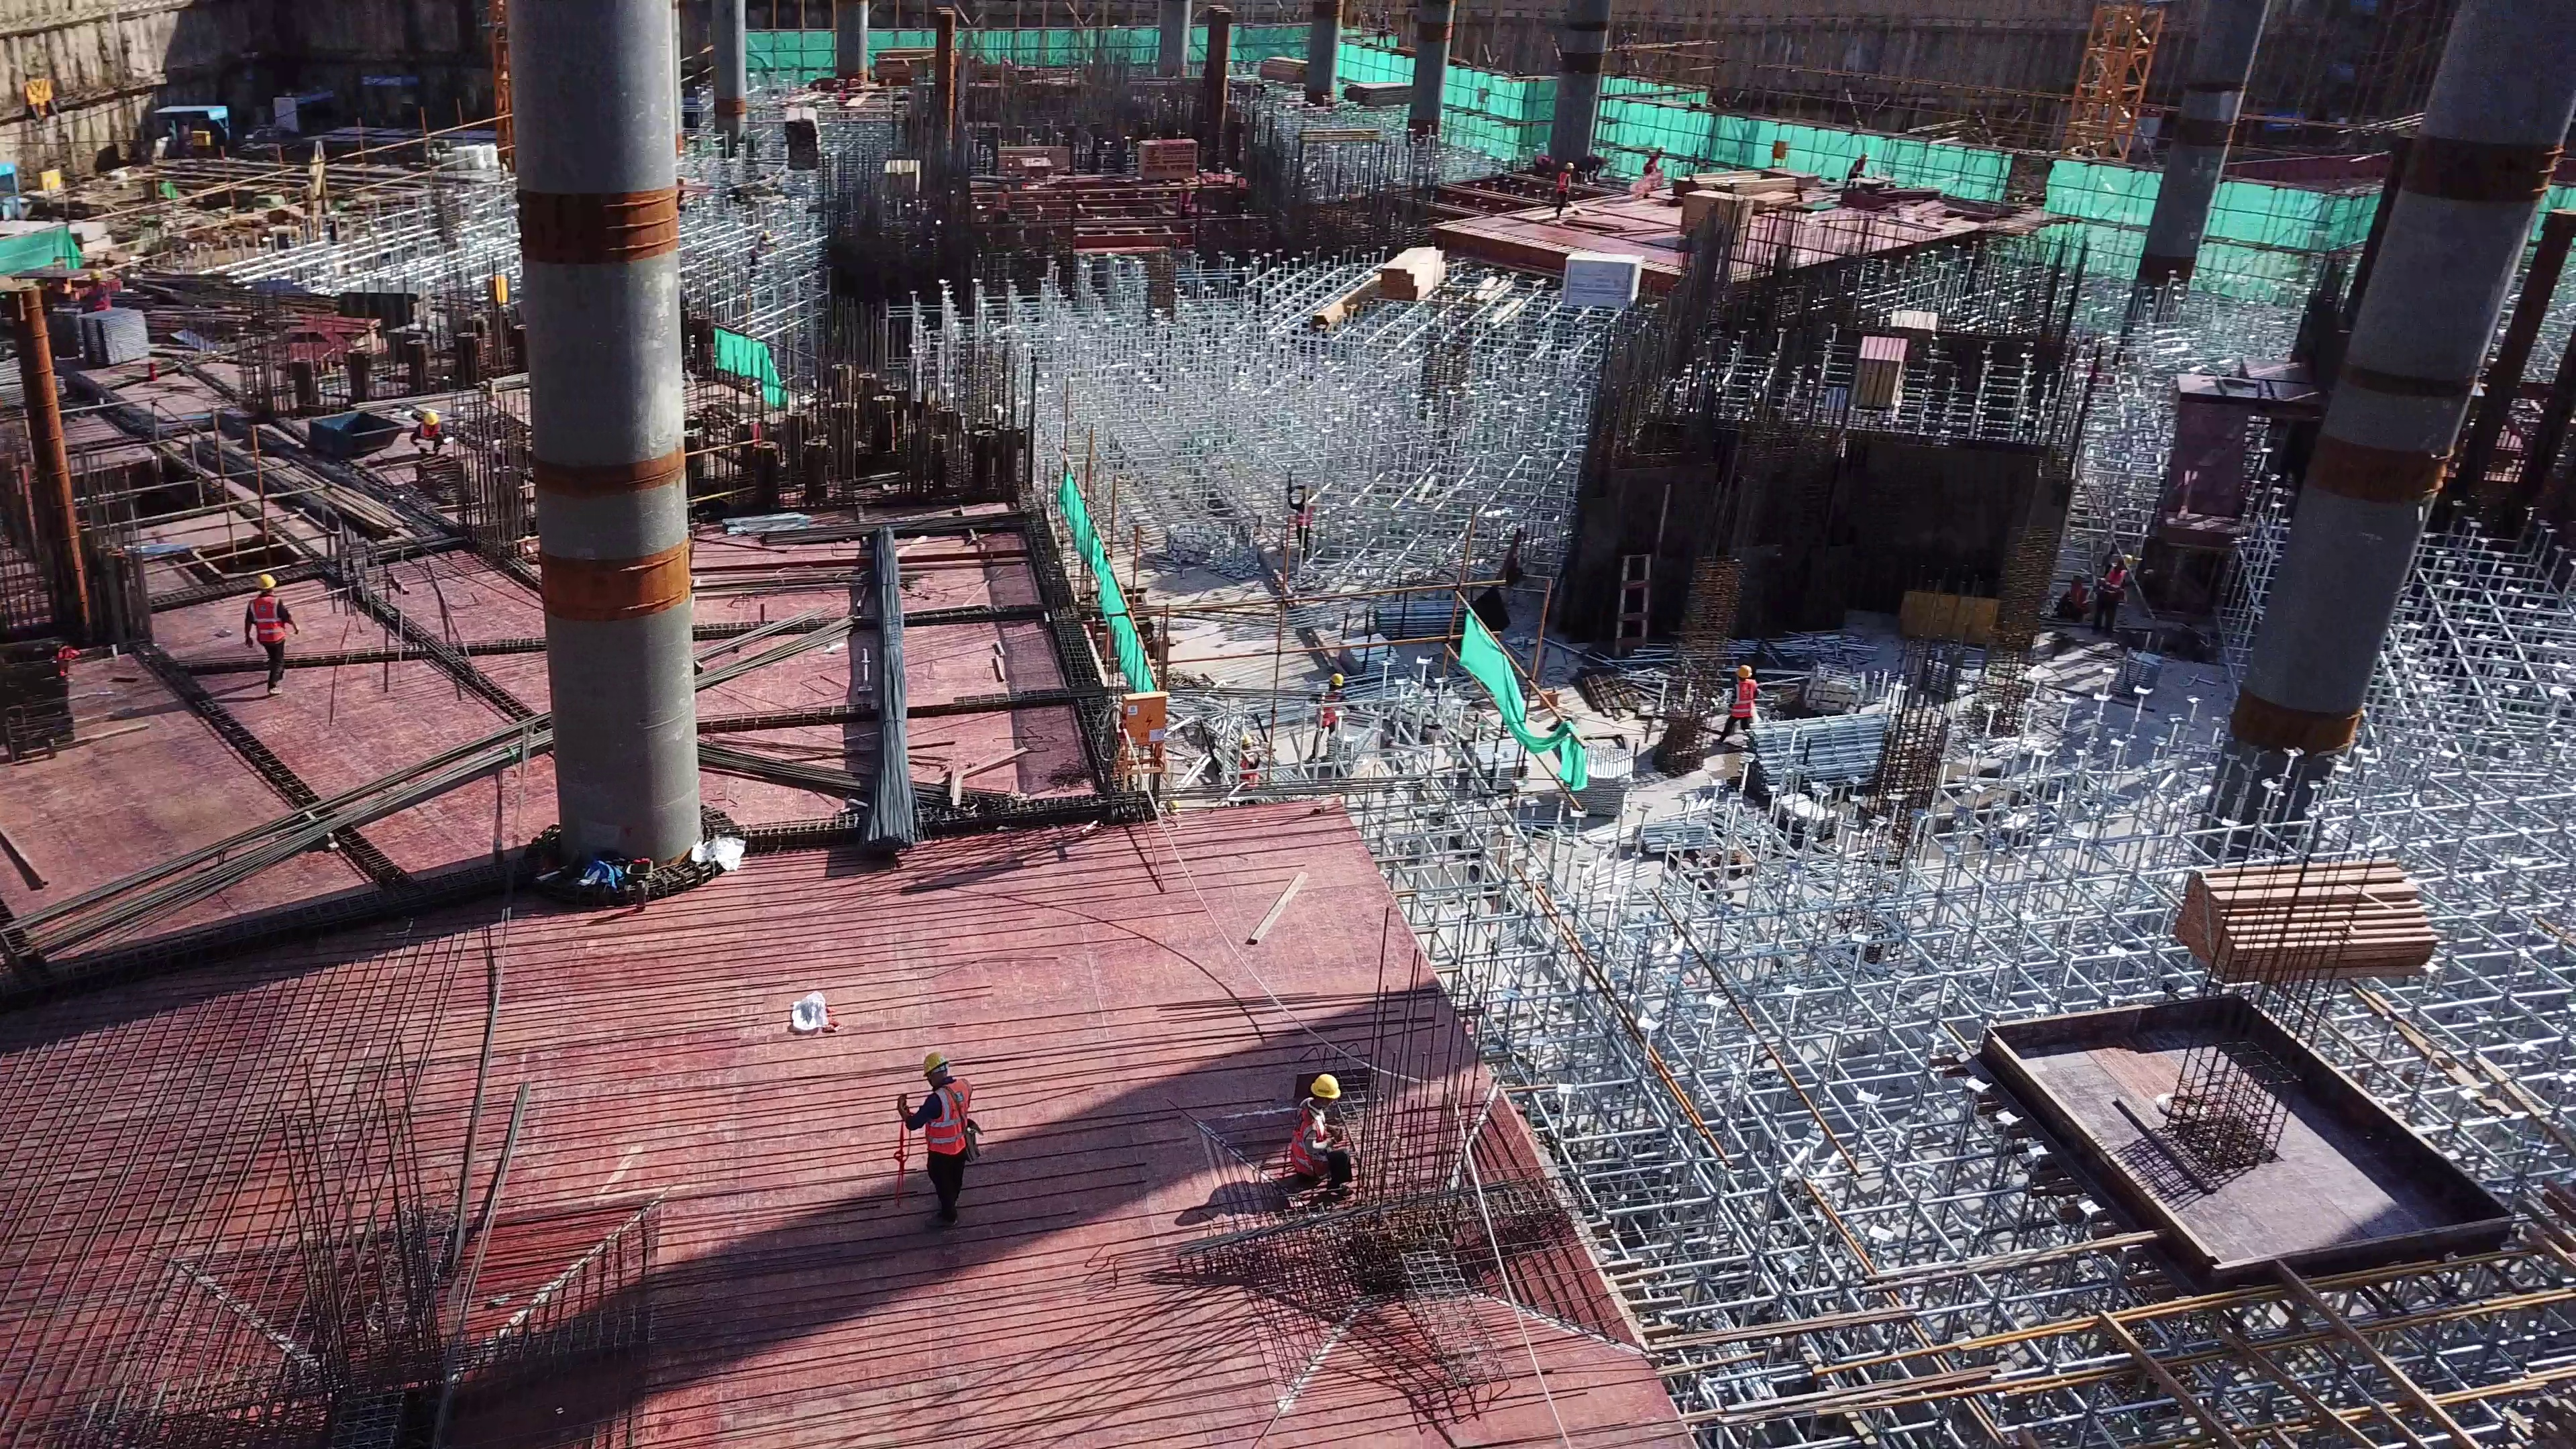helmet: (1304, 1072, 1339, 1105), (918, 1053, 951, 1070), (253, 575, 277, 590), (421, 411, 439, 428), (1736, 664, 1752, 680), (2121, 555, 2135, 566), (1564, 162, 1574, 170)
person: (890, 1051, 979, 1242), (1280, 1069, 1351, 1203), (236, 575, 302, 700), (1716, 663, 1764, 762), (1309, 666, 1351, 761), (2095, 552, 2129, 635), (2055, 574, 2095, 624), (408, 412, 446, 457), (1642, 146, 1663, 206), (1552, 163, 1574, 216), (1843, 152, 1868, 199)
vest: (922, 1088, 981, 1160), (1288, 1106, 1334, 1189), (246, 598, 287, 657), (1732, 683, 1762, 722), (2061, 585, 2090, 616), (2102, 567, 2125, 594), (414, 423, 441, 443), (1557, 174, 1568, 193)
